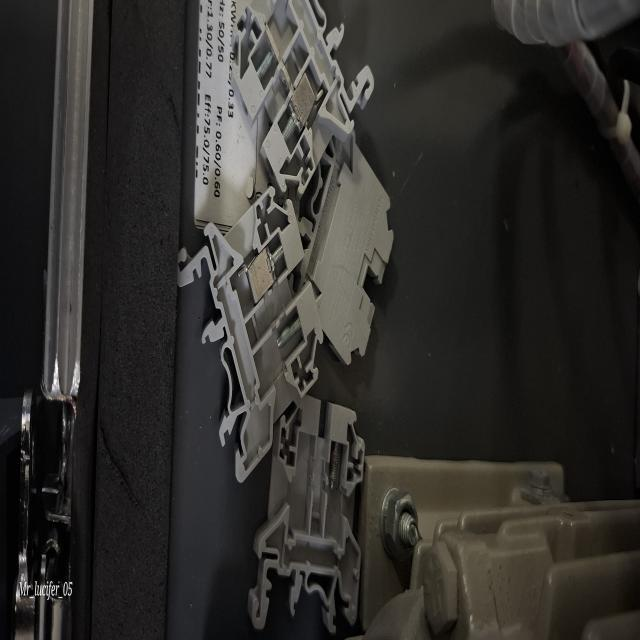Inverted: (308, 124, 395, 366)
Reject: (170, 182, 326, 491), (248, 361, 366, 637), (223, 0, 374, 197)
